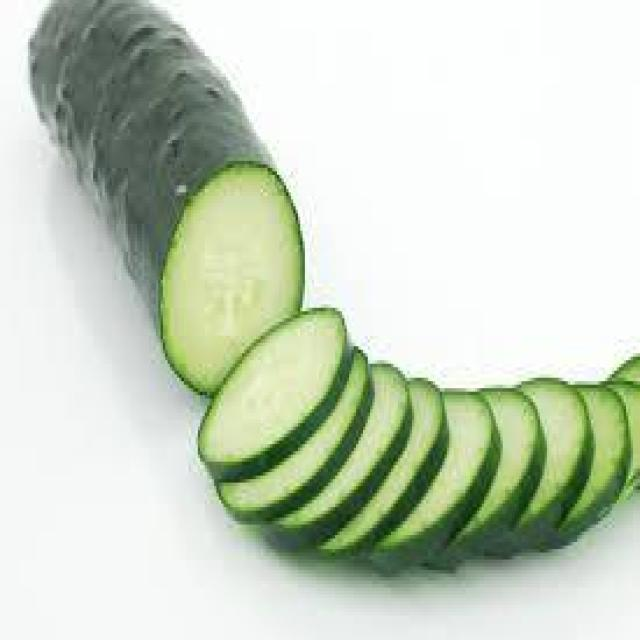organic: (30, 0, 640, 581)
